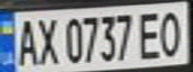0: (60, 14, 84, 65)
3: (97, 11, 118, 63)
7: (115, 10, 139, 62), (81, 12, 100, 64)
A: (12, 15, 39, 67)
E: (136, 8, 166, 61)
O: (154, 7, 187, 58)
X: (33, 14, 60, 66)
